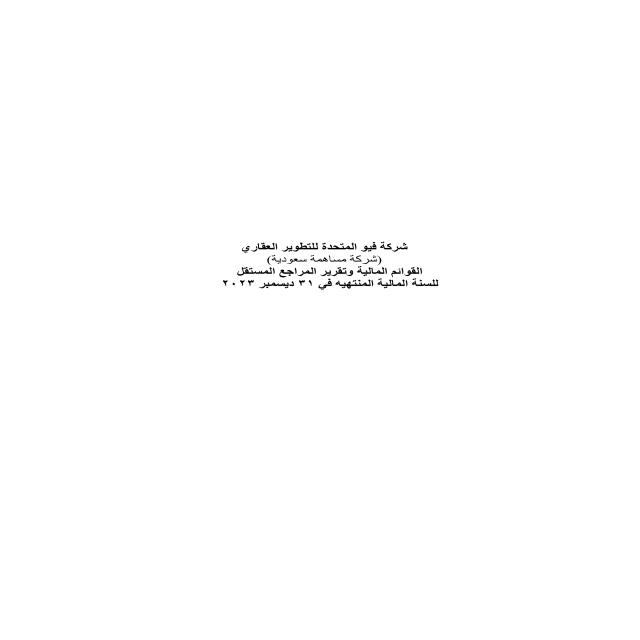other: (157, 159, 482, 352)
